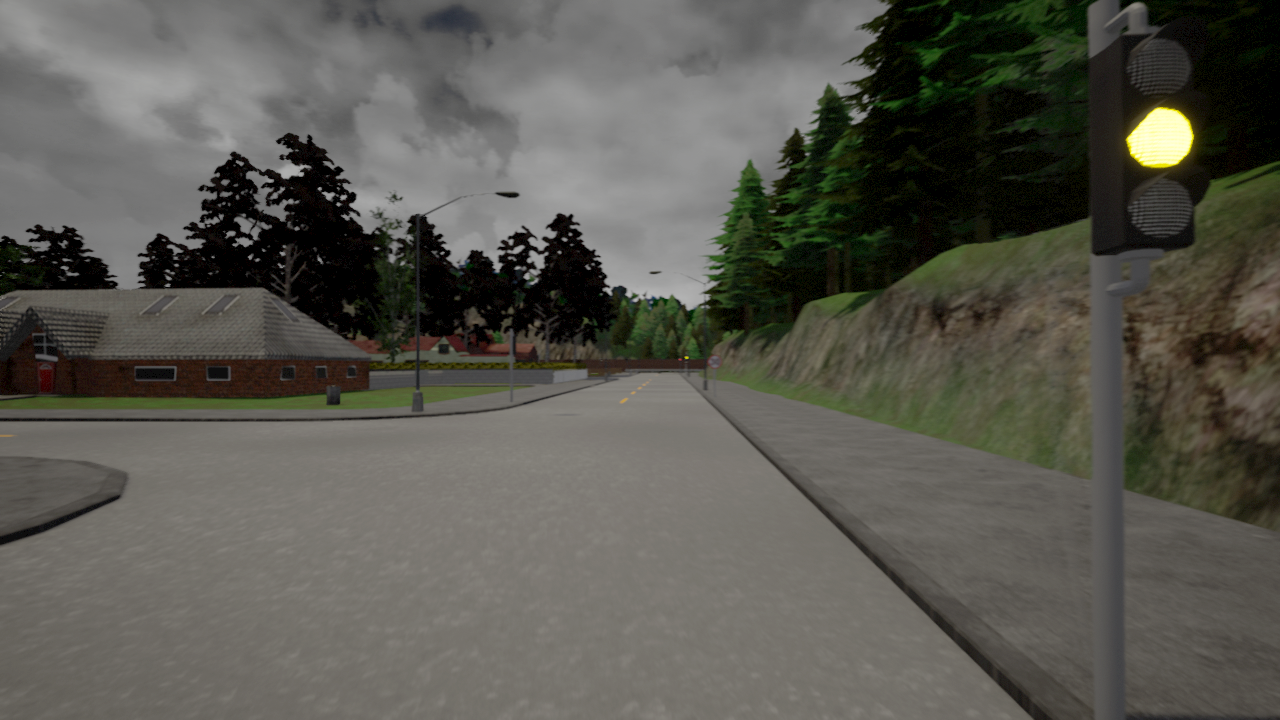yellow: (1096, 26, 1210, 266)
